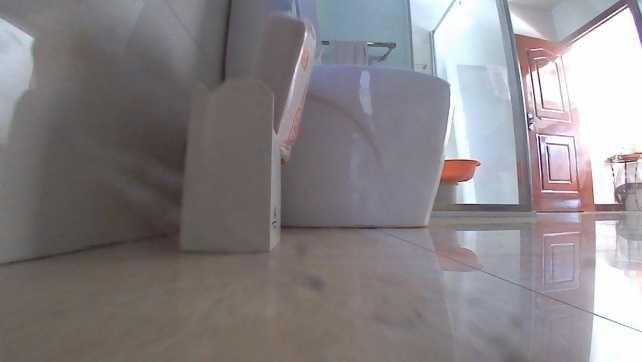toilet: (218, 0, 455, 231)
